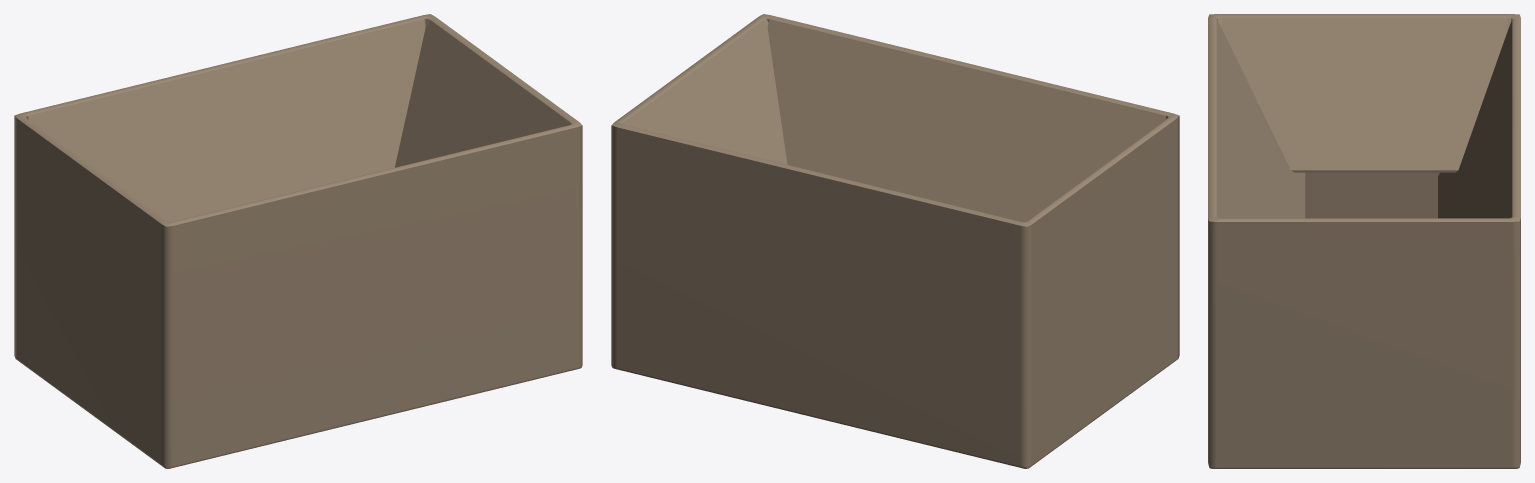
3 renders of one model, left to right at view 1: azimuth 30°, elevation 25°; view 2: azimuth 150°, elevation 25°; view 3: azimuth 270°, elevation 25°, orthographic.
Visible parts, largest first — view 1: Box02; view 2: Box02; view 3: Box02.
Boxes of the visible parts, left/top/right/bottom form: Box02: left=14, top=14, right=582, bottom=468; Box02: left=611, top=14, right=1179, bottom=468; Box02: left=1208, top=14, right=1520, bottom=468.
Bounding box in the file's own units: 0.4235 × 0.2374 × 0.2691.
